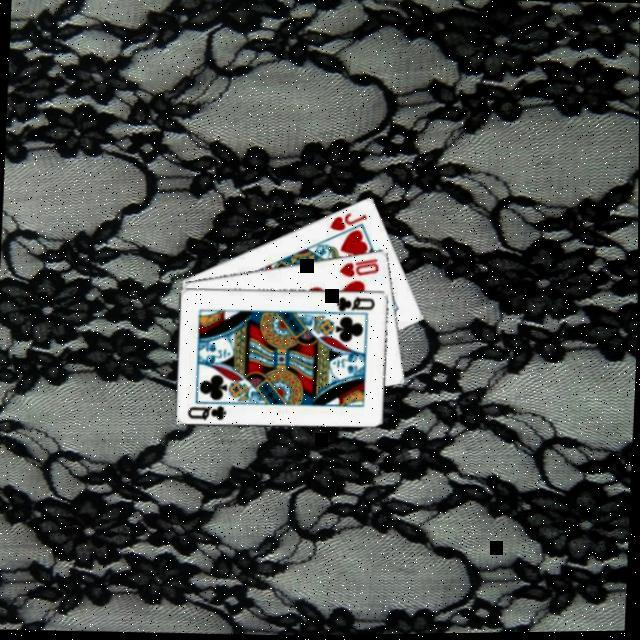10H: (335, 256, 381, 283)
JH: (326, 211, 369, 235)
QC: (332, 294, 377, 317), (185, 402, 229, 424)
